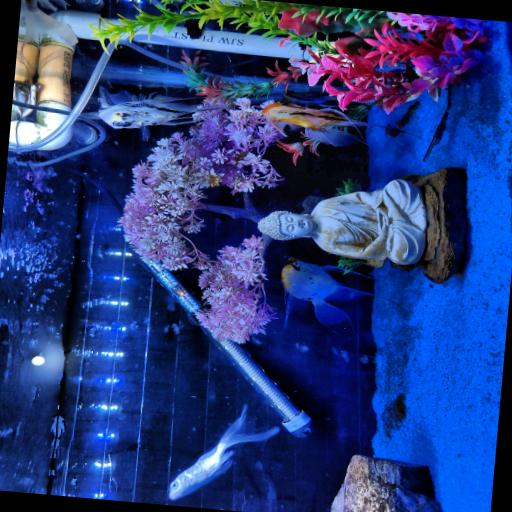Fish: (169, 406, 279, 499), (281, 257, 373, 326), (263, 101, 405, 145), (99, 86, 216, 139), (20, 0, 77, 47)
